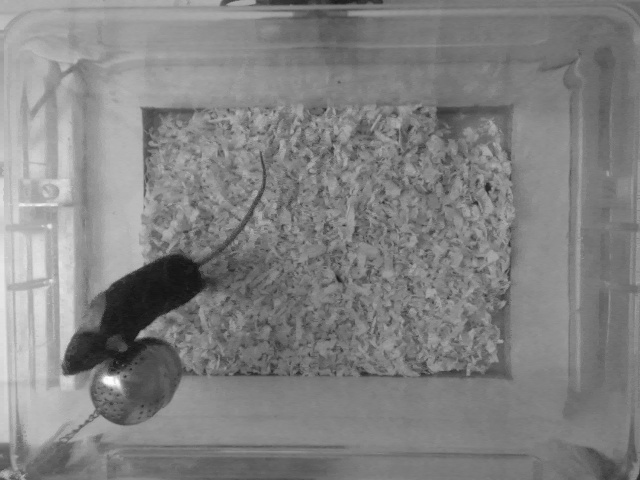mice: (57, 151, 268, 375)
